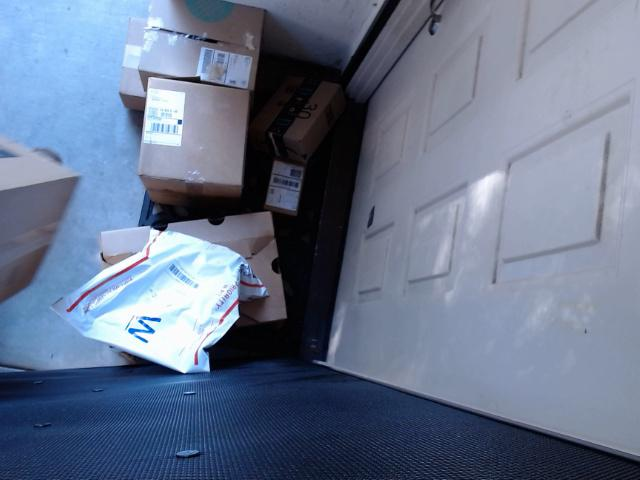box: (129, 69, 258, 218), (114, 216, 301, 318), (109, 0, 279, 86), (277, 59, 362, 153), (0, 126, 45, 301), (255, 144, 322, 225)
plastic_bag: (62, 230, 256, 367)
